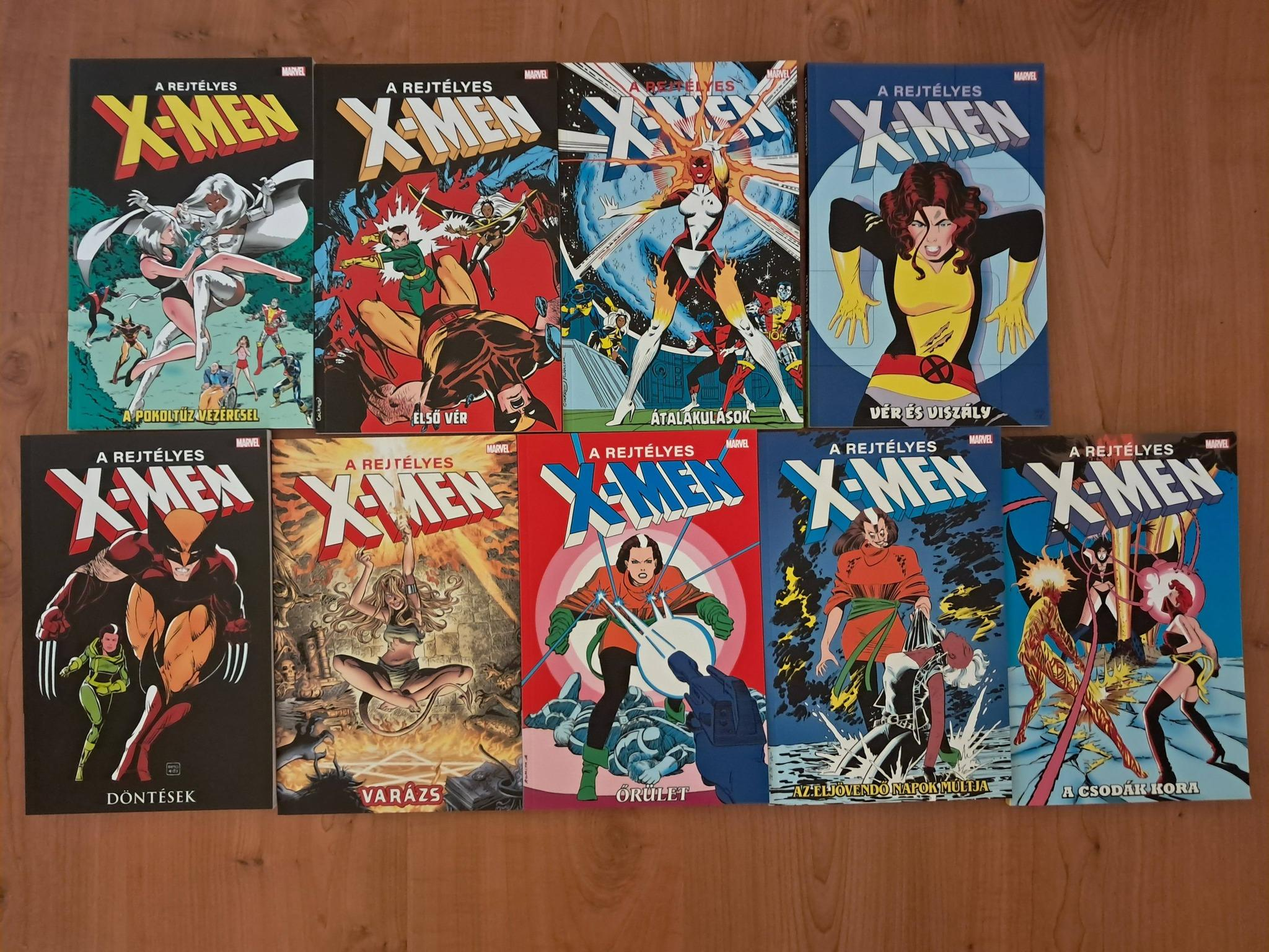comic: (16, 429, 277, 814), (759, 425, 1012, 804), (515, 429, 767, 809), (1000, 429, 1249, 807), (273, 435, 521, 814), (313, 62, 562, 435), (558, 60, 805, 431), (68, 58, 314, 429), (807, 63, 1048, 426)
